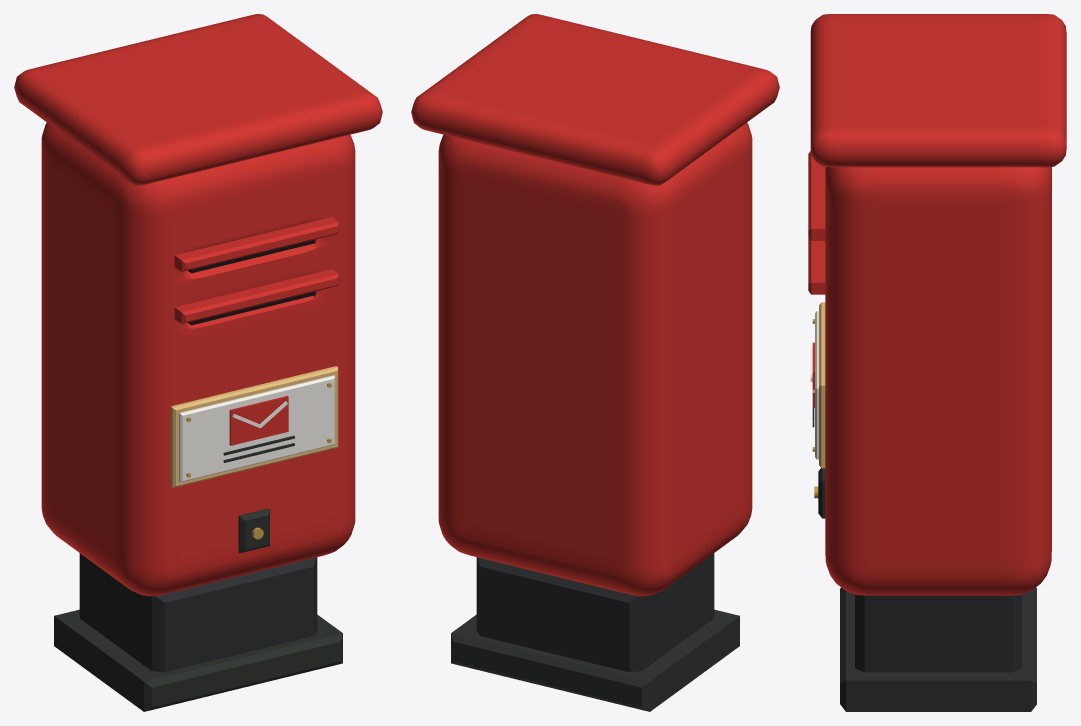
File: postbox.glb
The picture shows the model from 3 angles, left to right: view 1: azimuth 30°, elevation 25°; view 2: azimuth 150°, elevation 25°; view 3: azimuth 270°, elevation 25°; orthographic projection. The views are drawn at different scales.
Visible parts, largest first — view 1: postRed2, postRed3, chassis1, iron0, plate9, goldTrim8, postRed6, postRed7, postRed10, iron19; view 2: postRed2, postRed3, chassis1, iron0; view 3: postRed2, postRed3, chassis1, iron0, postRed6, goldTrim8, postRed7, plate9.
Part boxes in pixels (bbox=[...]): postRed2: bbox=[41, 122, 355, 596]; postRed3: bbox=[14, 14, 382, 185]; chassis1: bbox=[79, 553, 317, 672]; iron0: bbox=[54, 609, 342, 711]; plate9: bbox=[179, 375, 334, 482]; goldTrim8: bbox=[170, 366, 338, 487]; postRed6: bbox=[174, 217, 338, 271]; postRed7: bbox=[174, 269, 338, 323]; postRed10: bbox=[229, 396, 288, 445]; iron19: bbox=[238, 508, 269, 552]; postRed2: bbox=[438, 122, 752, 596]; postRed3: bbox=[411, 14, 779, 185]; chassis1: bbox=[476, 553, 714, 672]; iron0: bbox=[451, 609, 739, 711]; postRed2: bbox=[825, 167, 1051, 595]; postRed3: bbox=[810, 14, 1066, 167]; chassis1: bbox=[855, 594, 1022, 672]; iron0: bbox=[840, 587, 1036, 711]; postRed6: bbox=[808, 151, 825, 240]; goldTrim8: bbox=[819, 302, 825, 468]; postRed7: bbox=[808, 237, 825, 294]; plate9: bbox=[815, 311, 818, 459].
Bounding box in the file's own units: 0.62 × 1.32 × 0.5245.
